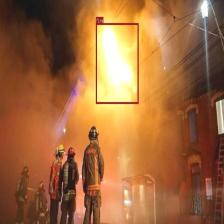fire: (96, 22, 138, 104)
